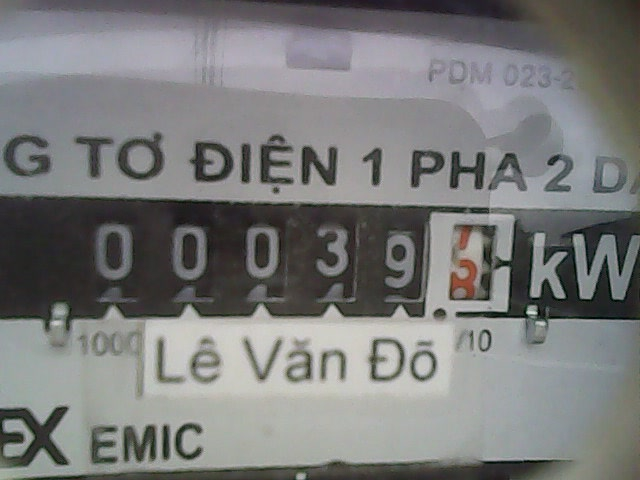phy_plate: (69, 205, 519, 319)
